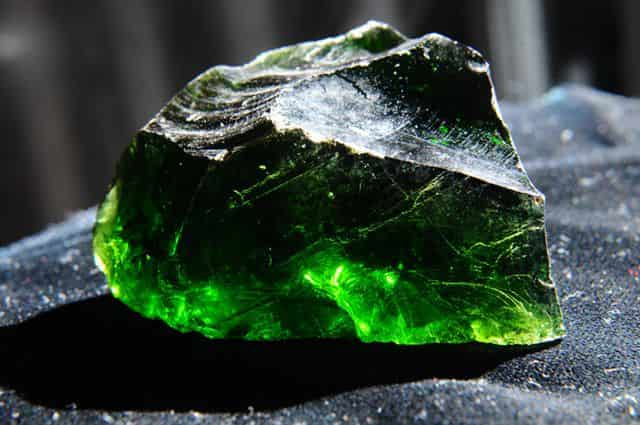Obsidian: (93, 19, 568, 345)
